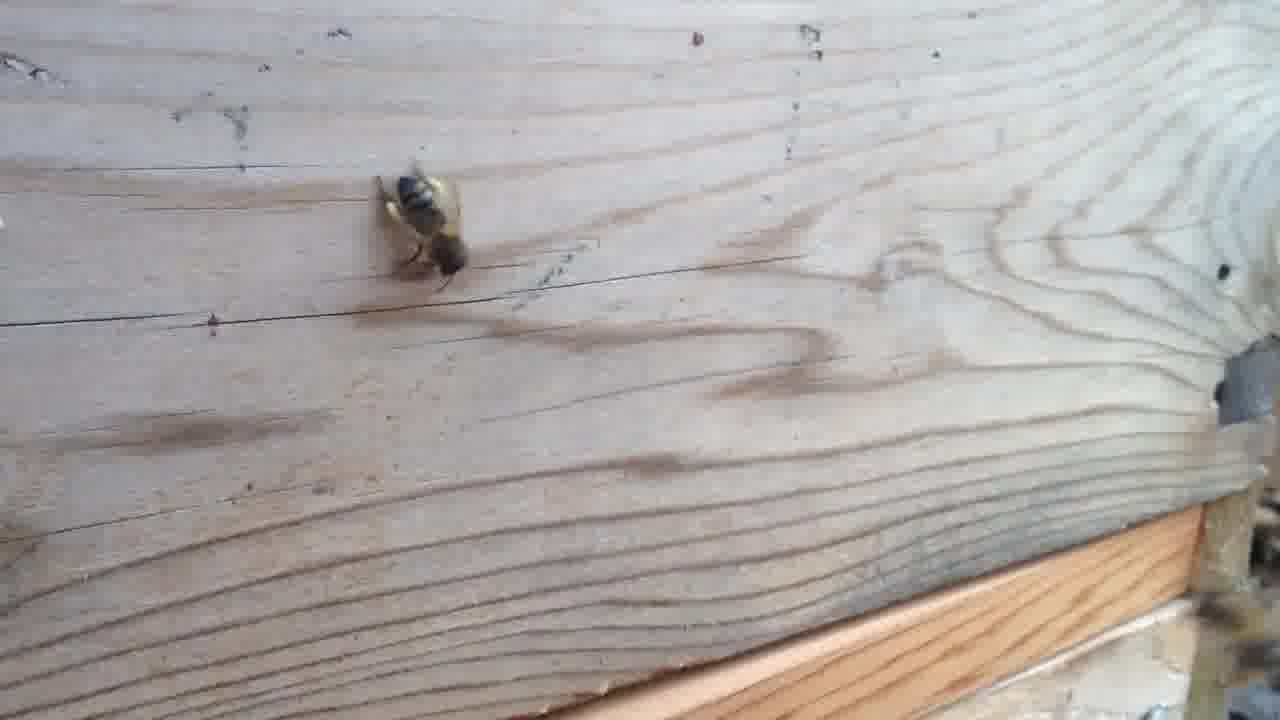pollen: (374, 159, 482, 288)
